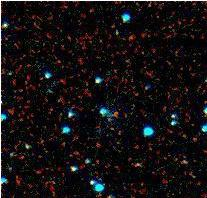star: (121, 148, 151, 178)
